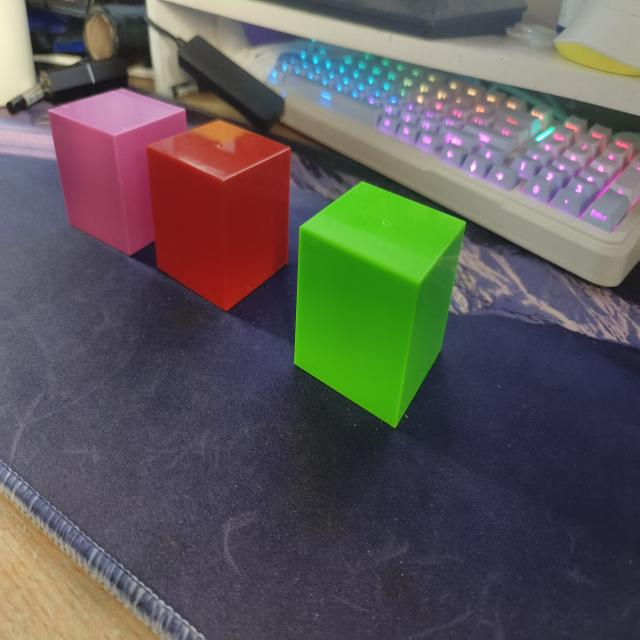green: (289, 173, 473, 440)
pink: (44, 81, 190, 262)
red: (144, 110, 294, 320)
